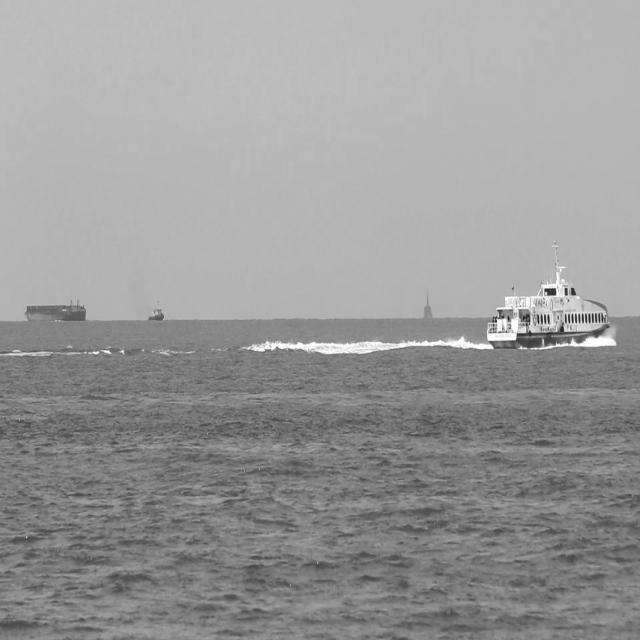ship: (485, 234, 619, 354), (21, 294, 87, 324), (144, 294, 166, 322)
